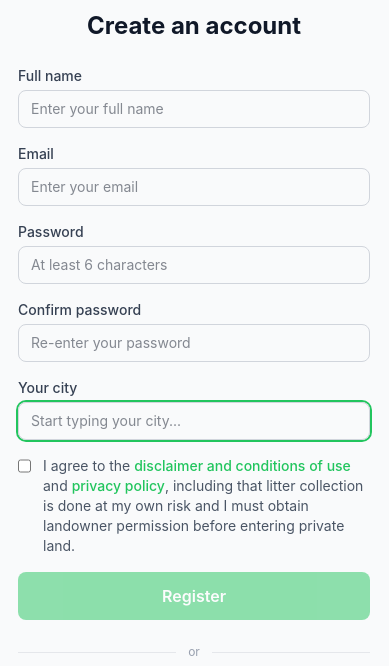
Register › allows changing selected city
The width and height of the screenshot is (389, 666).
In the field with placeholder "Start typing your city...": (194, 421) [18,402,370,440], type "Lon"
Wait 300 ms
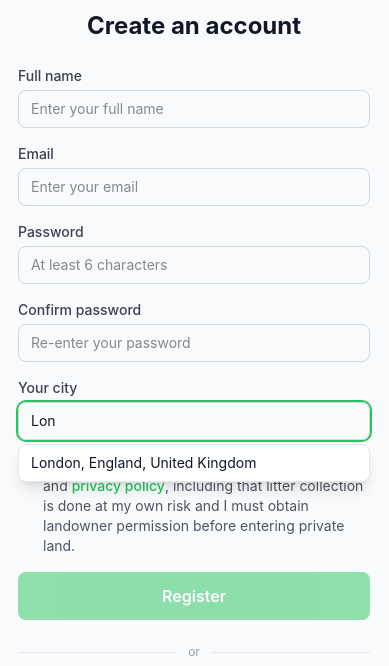
Click the button "London, England, United Kingdom": (194, 463) [19,445,369,481]
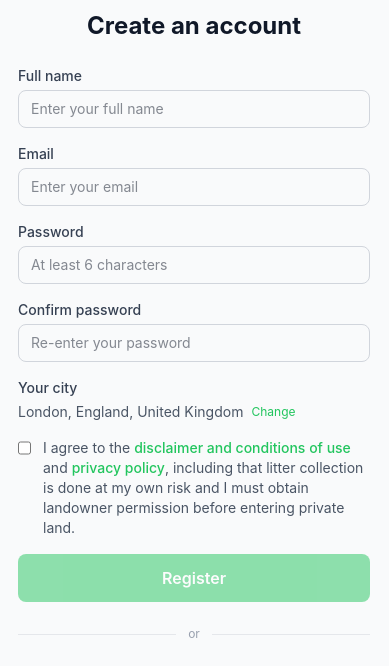
Click the button "Change": (273, 412) [251,404,295,420]
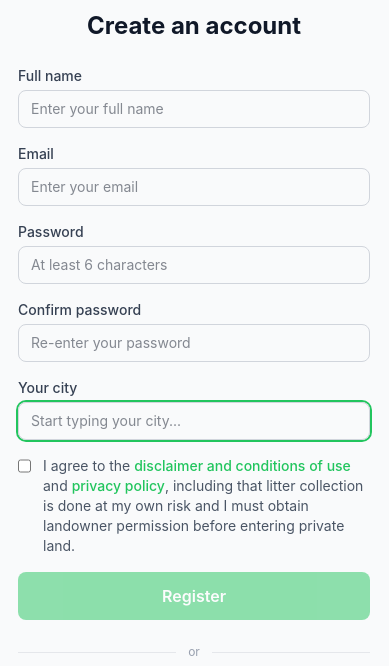
Result: the field with placeholder "Start typing your city..." is shown at [18,402,370,440]
